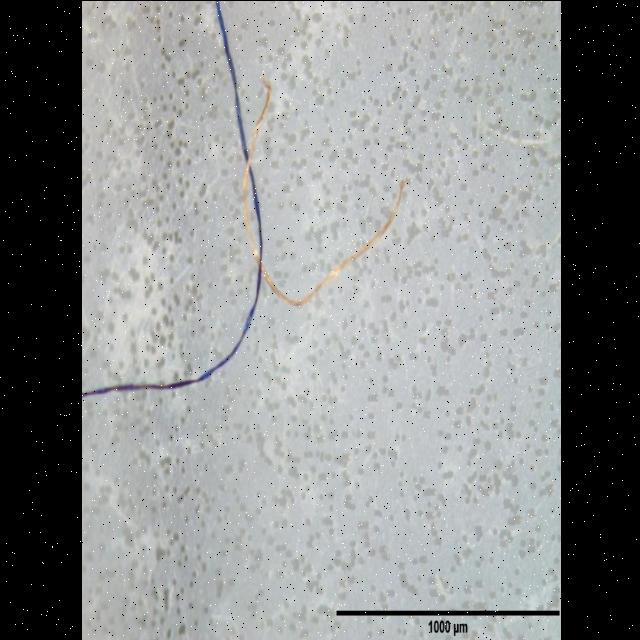Fibre: (80, 0, 264, 396), (238, 72, 407, 308)
